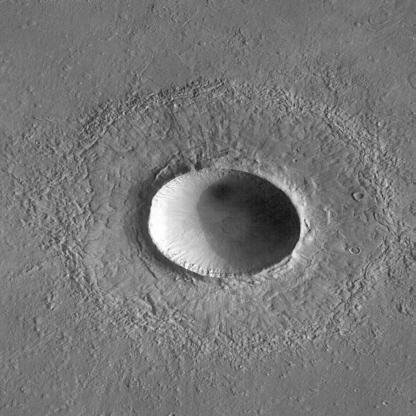craters: (122, 161, 324, 290)
